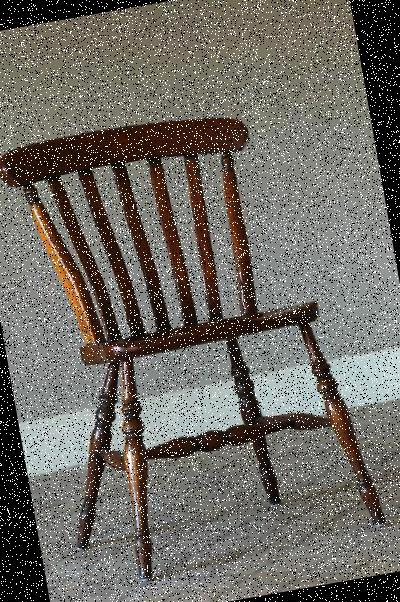Silla: (0, 90, 391, 591)
